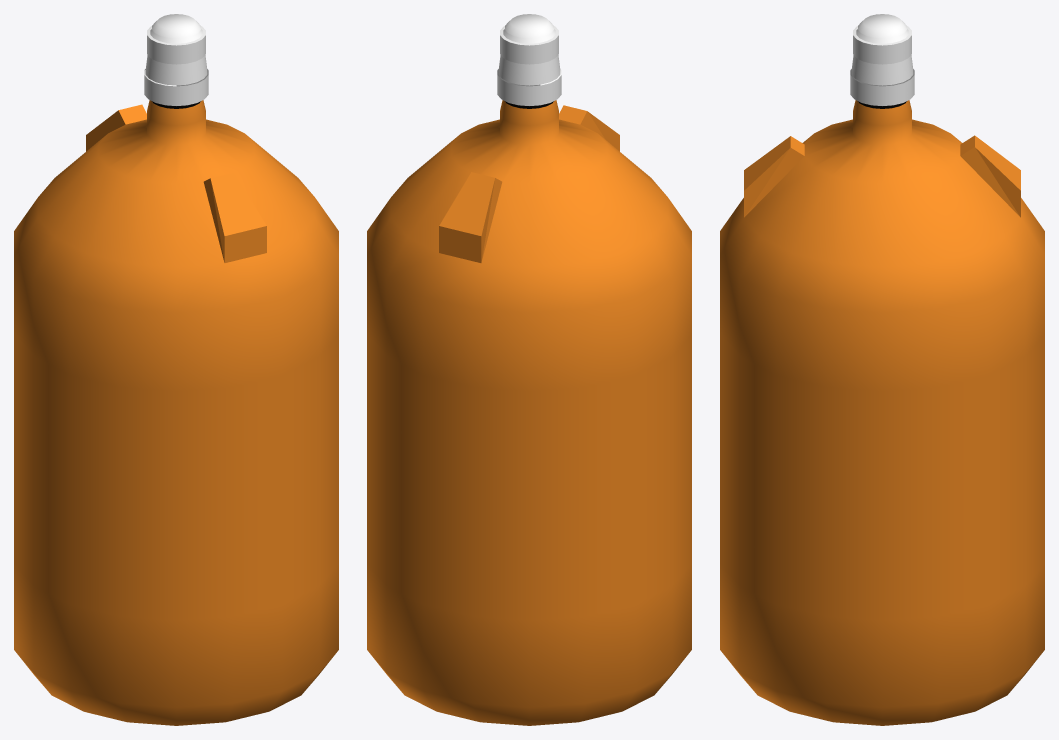
Rendered from GasFlask.fbx.
The picture shows the model from 3 angles, left to right: view 1: azimuth 30°, elevation 25°; view 2: azimuth 150°, elevation 25°; view 3: azimuth 270°, elevation 25°; orthographic projection.
Visible parts, largest first — view 1: Cylinder018; view 2: Cylinder018; view 3: Cylinder018.
Boxes of the visible parts, x1=… form: Cylinder018: x1=14, y1=14, x2=338, y2=725; Cylinder018: x1=367, y1=14, x2=691, y2=725; Cylinder018: x1=720, y1=14, x2=1044, y2=725.
Size of the model in its own units: 12.72 by 27.34 by 12.52.
